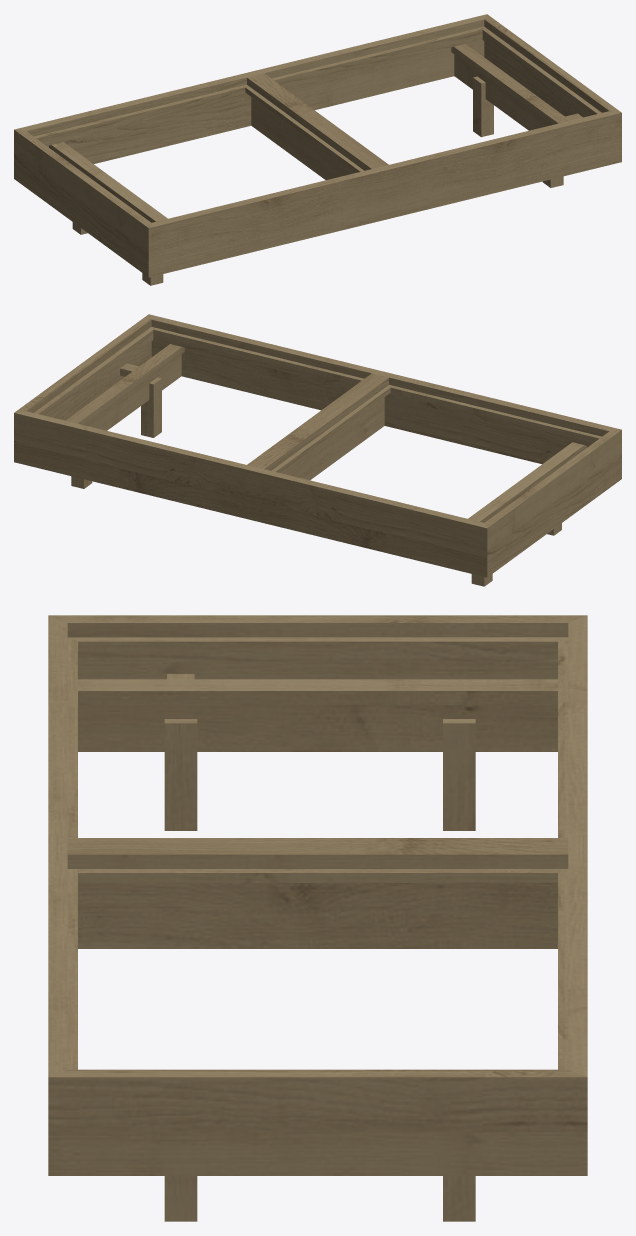
File: module-x-double.glb
3 renders of one model, top to bottom at view 1: azimuth 30°, elevation 25°; view 2: azimuth 150°, elevation 25°; view 3: azimuth 270°, elevation 25°, orthographic. The views are drawn at different scales.
Parts seen in each view (by area): view 1: Module X Double.001; view 2: Module X Double.001; view 3: Module X Double.001.
Boxes of the visible parts, box(x1,y1,x2,y2) form: Module X Double.001: box(14, 14, 621, 285); Module X Double.001: box(14, 314, 621, 586); Module X Double.001: box(48, 615, 587, 1221).
Bounding box in the file's own units: 1.5 × 0.2618 × 0.74.
Materials: 1 (1 with a texture image).
